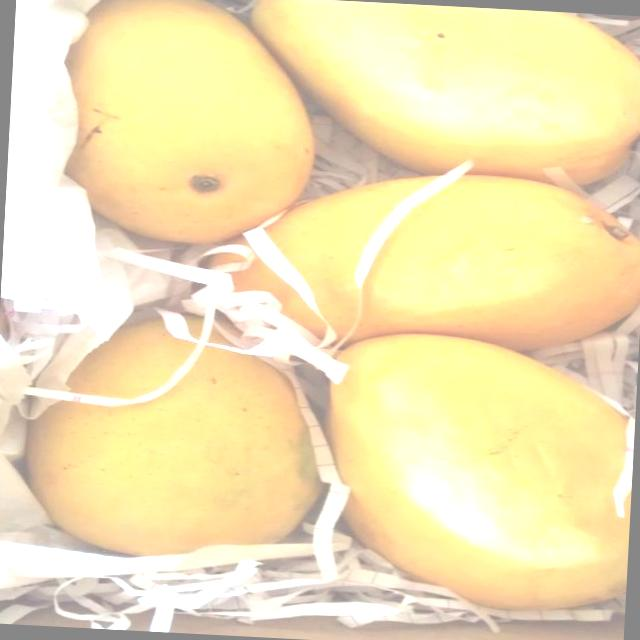Mango: (316, 328, 638, 617), (200, 159, 640, 363), (19, 306, 332, 566), (241, 0, 640, 191), (54, 0, 323, 250)
